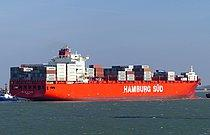Ship: (9, 46, 203, 110)
